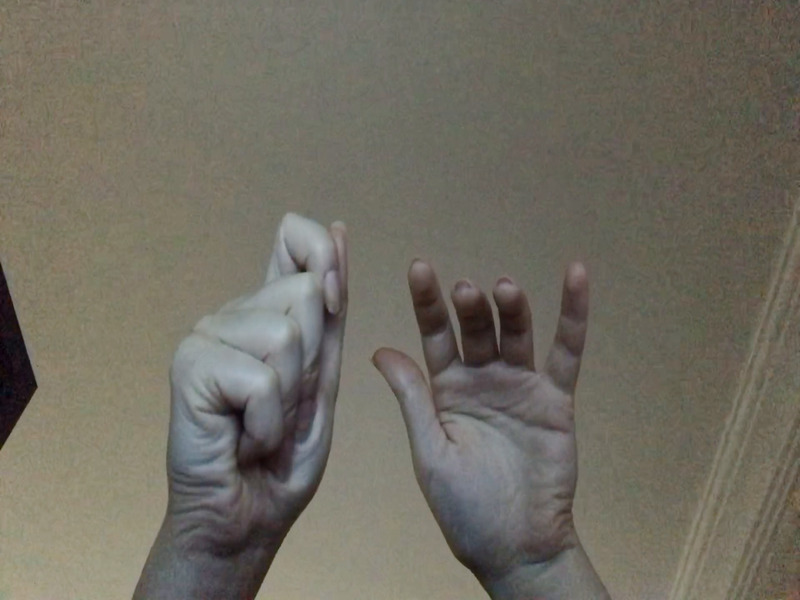hand: (369, 255, 605, 548), (151, 213, 347, 540)
